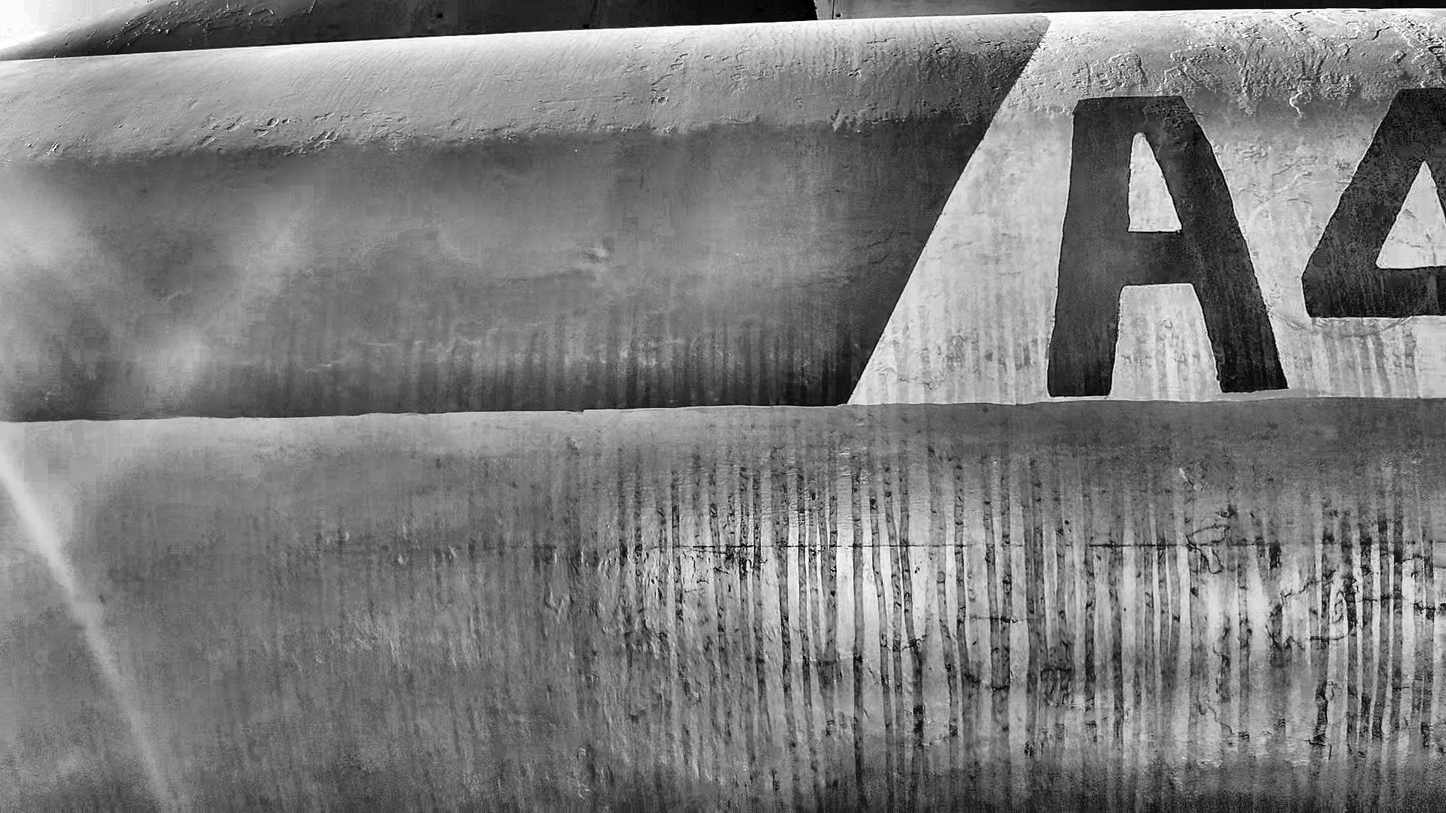paint-peel-off: (1314, 692, 1329, 746), (1270, 548, 1278, 570)
